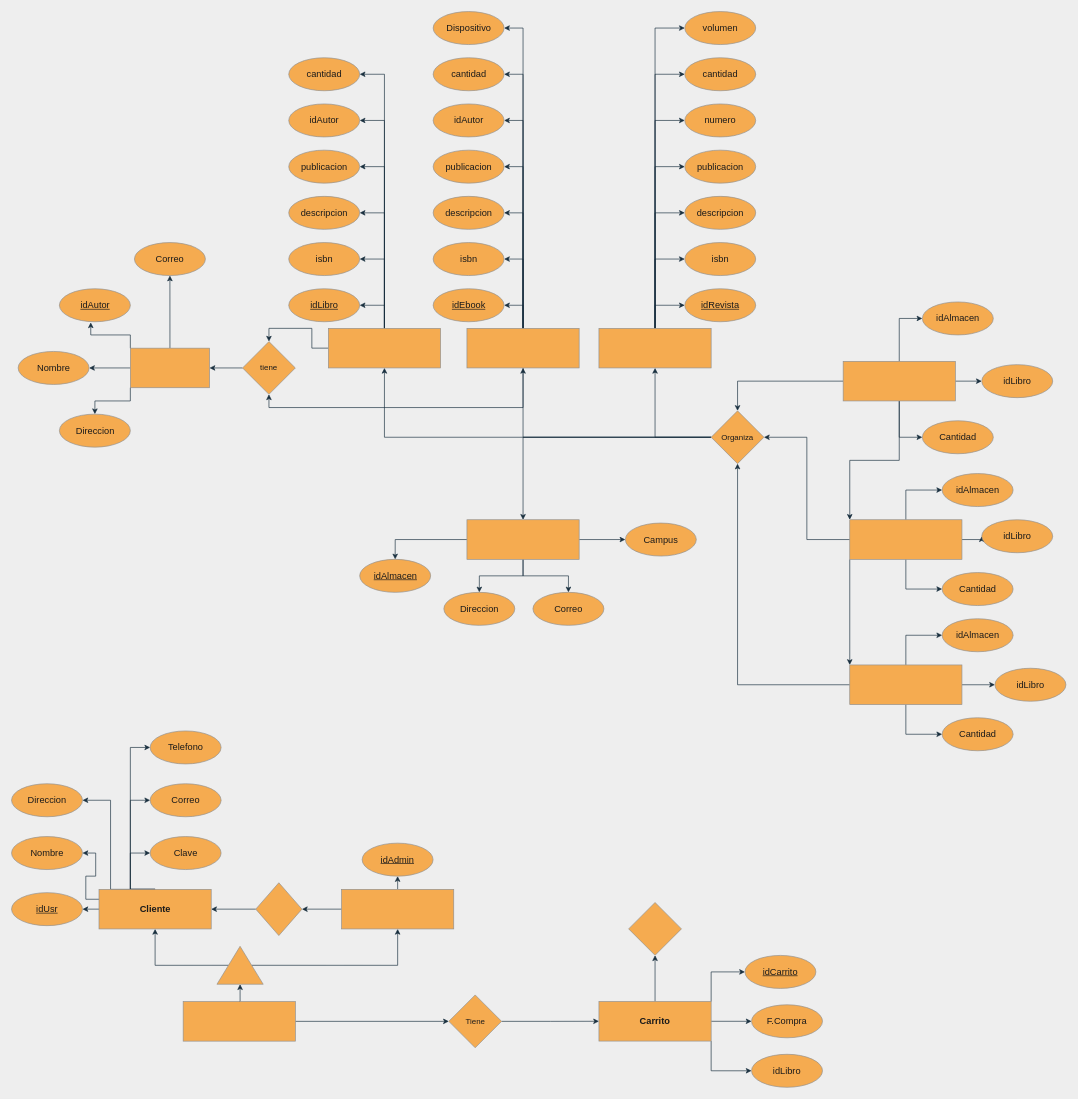
Image size: 1078x1099. Some labels were removed from this diagram. Each missing label, with the box of its shape:
Administrador: (341, 889, 454, 929)
Almacen: (466, 519, 579, 559)
Autor: (130, 347, 210, 388)
Ebook: (466, 328, 579, 368)
es: (255, 882, 302, 936)
GuardaEbooks: (849, 519, 962, 559)
GuardaLibros: (842, 361, 955, 401)
GuardaRevistas: (849, 664, 962, 705)
Libro: (328, 328, 441, 368)
Reserva: (628, 902, 681, 955)
Revista: (598, 328, 711, 368)
Son: (216, 946, 263, 984)
Usuario: (182, 1001, 295, 1041)
